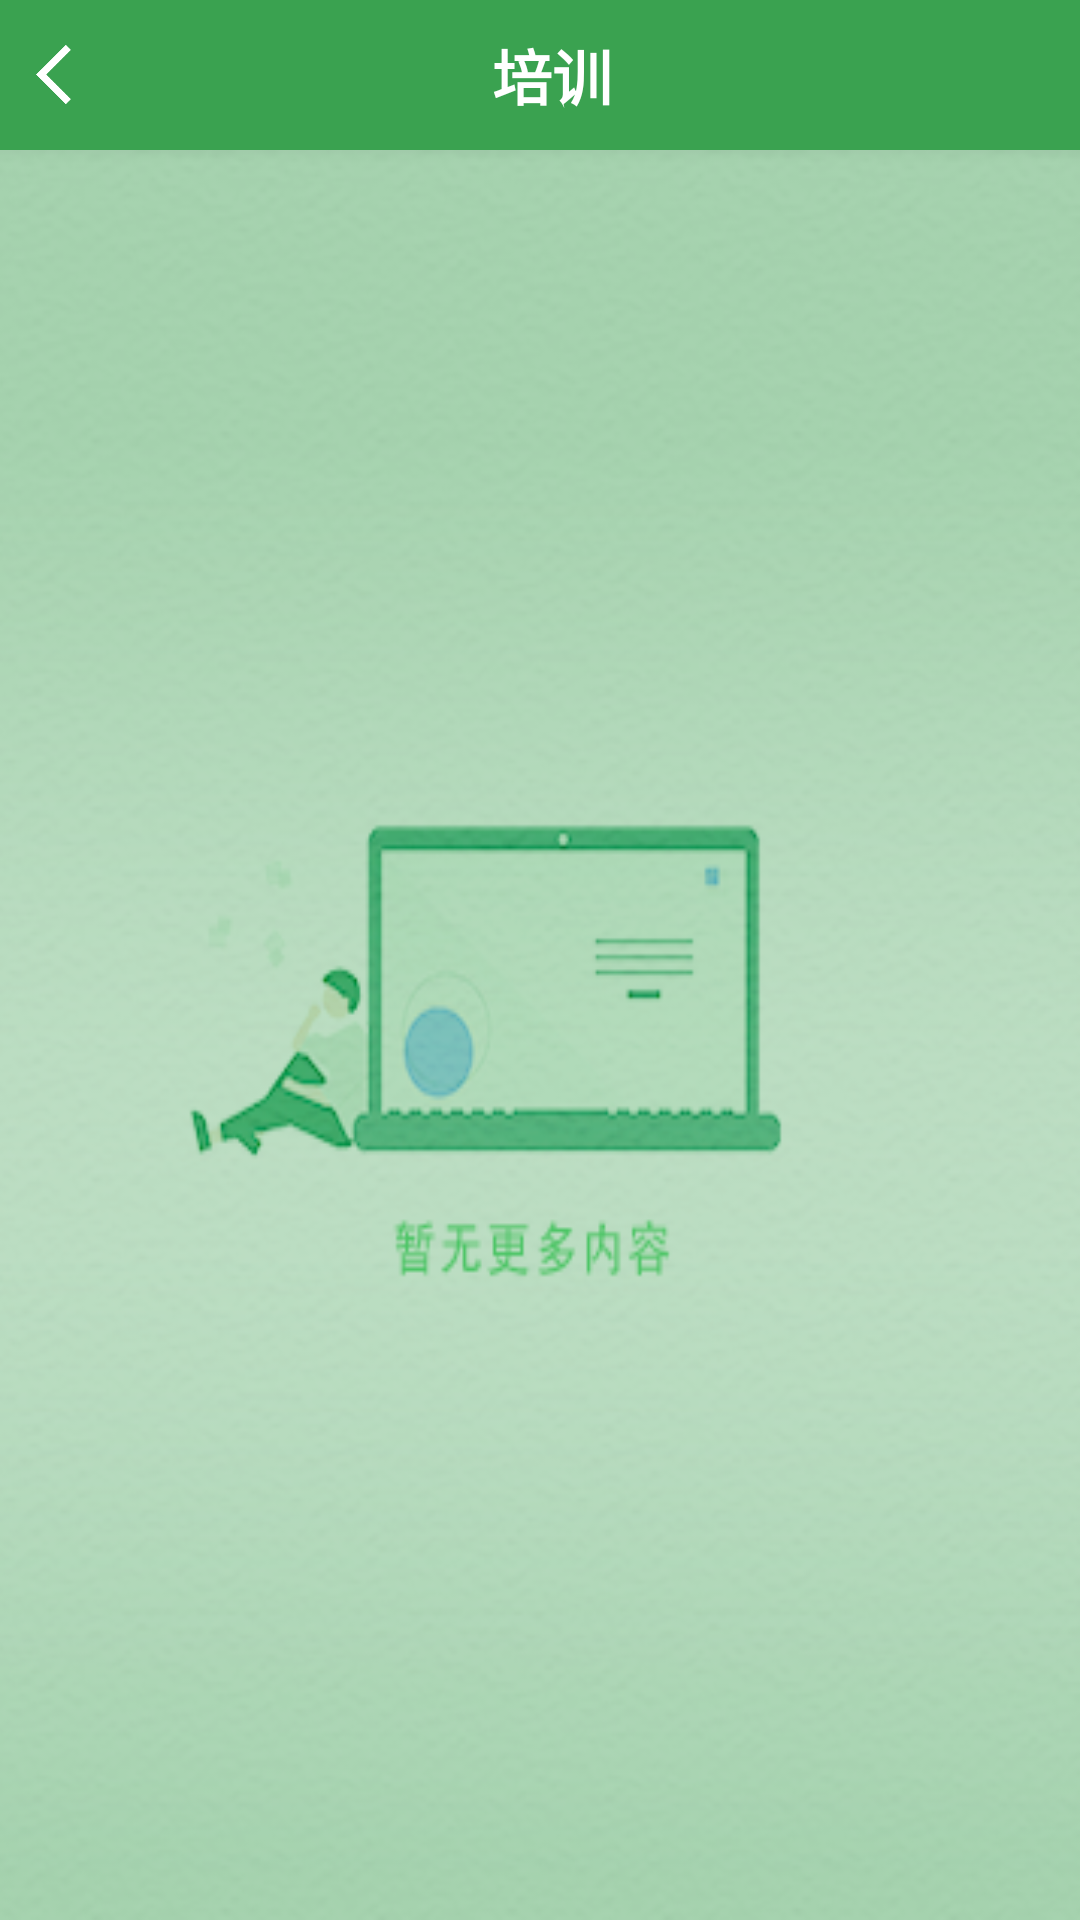

Icon click points for this 1080px x 1920px phone screenshot, format (x=x, y=y):
left: (x=53, y=74)
